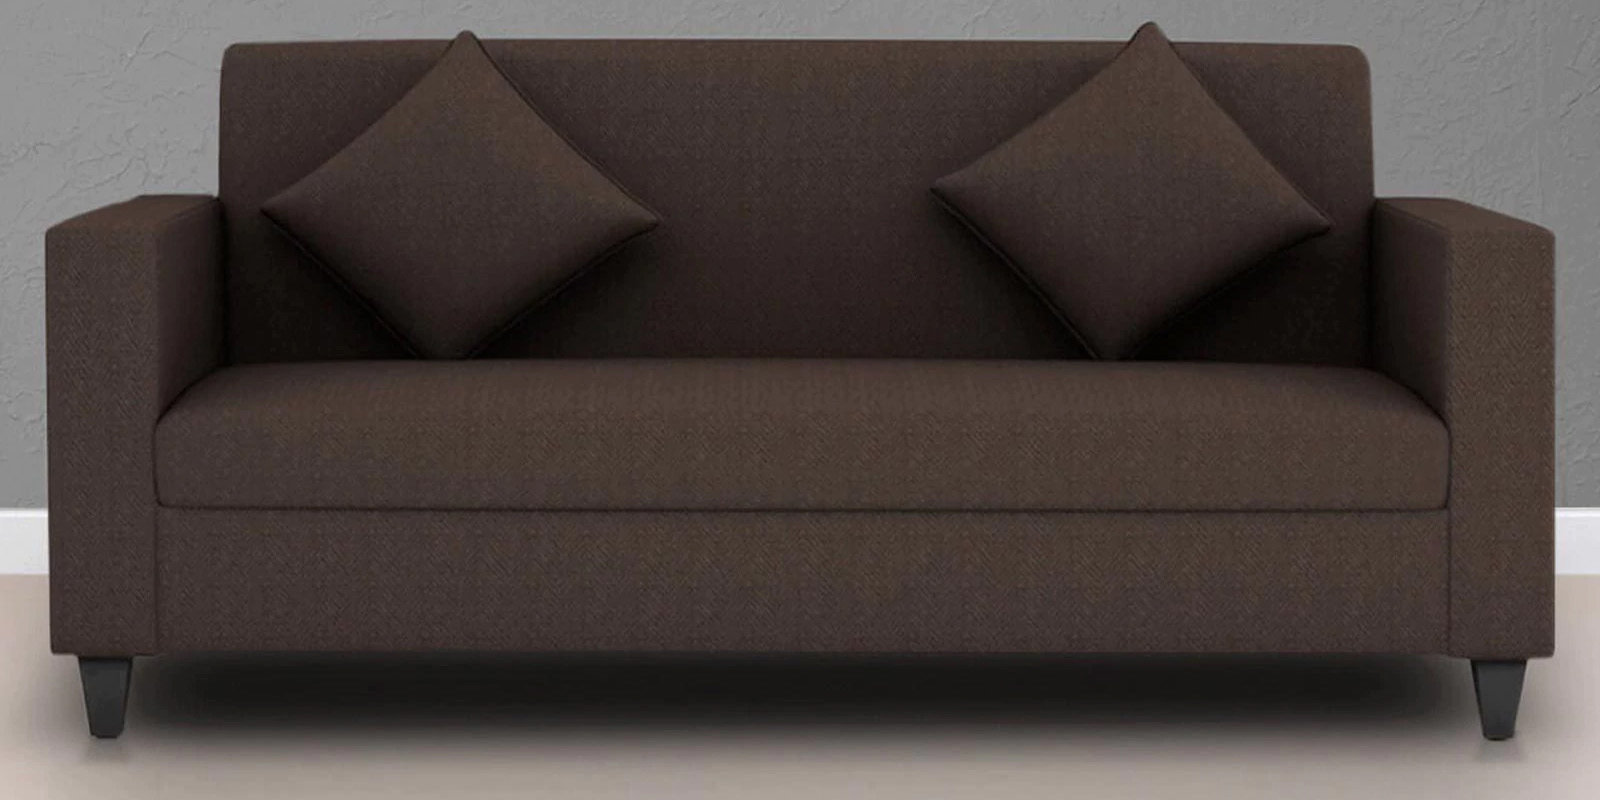Cooper Three Seater Sofa by ARRA: (46, 30, 1577, 707)
